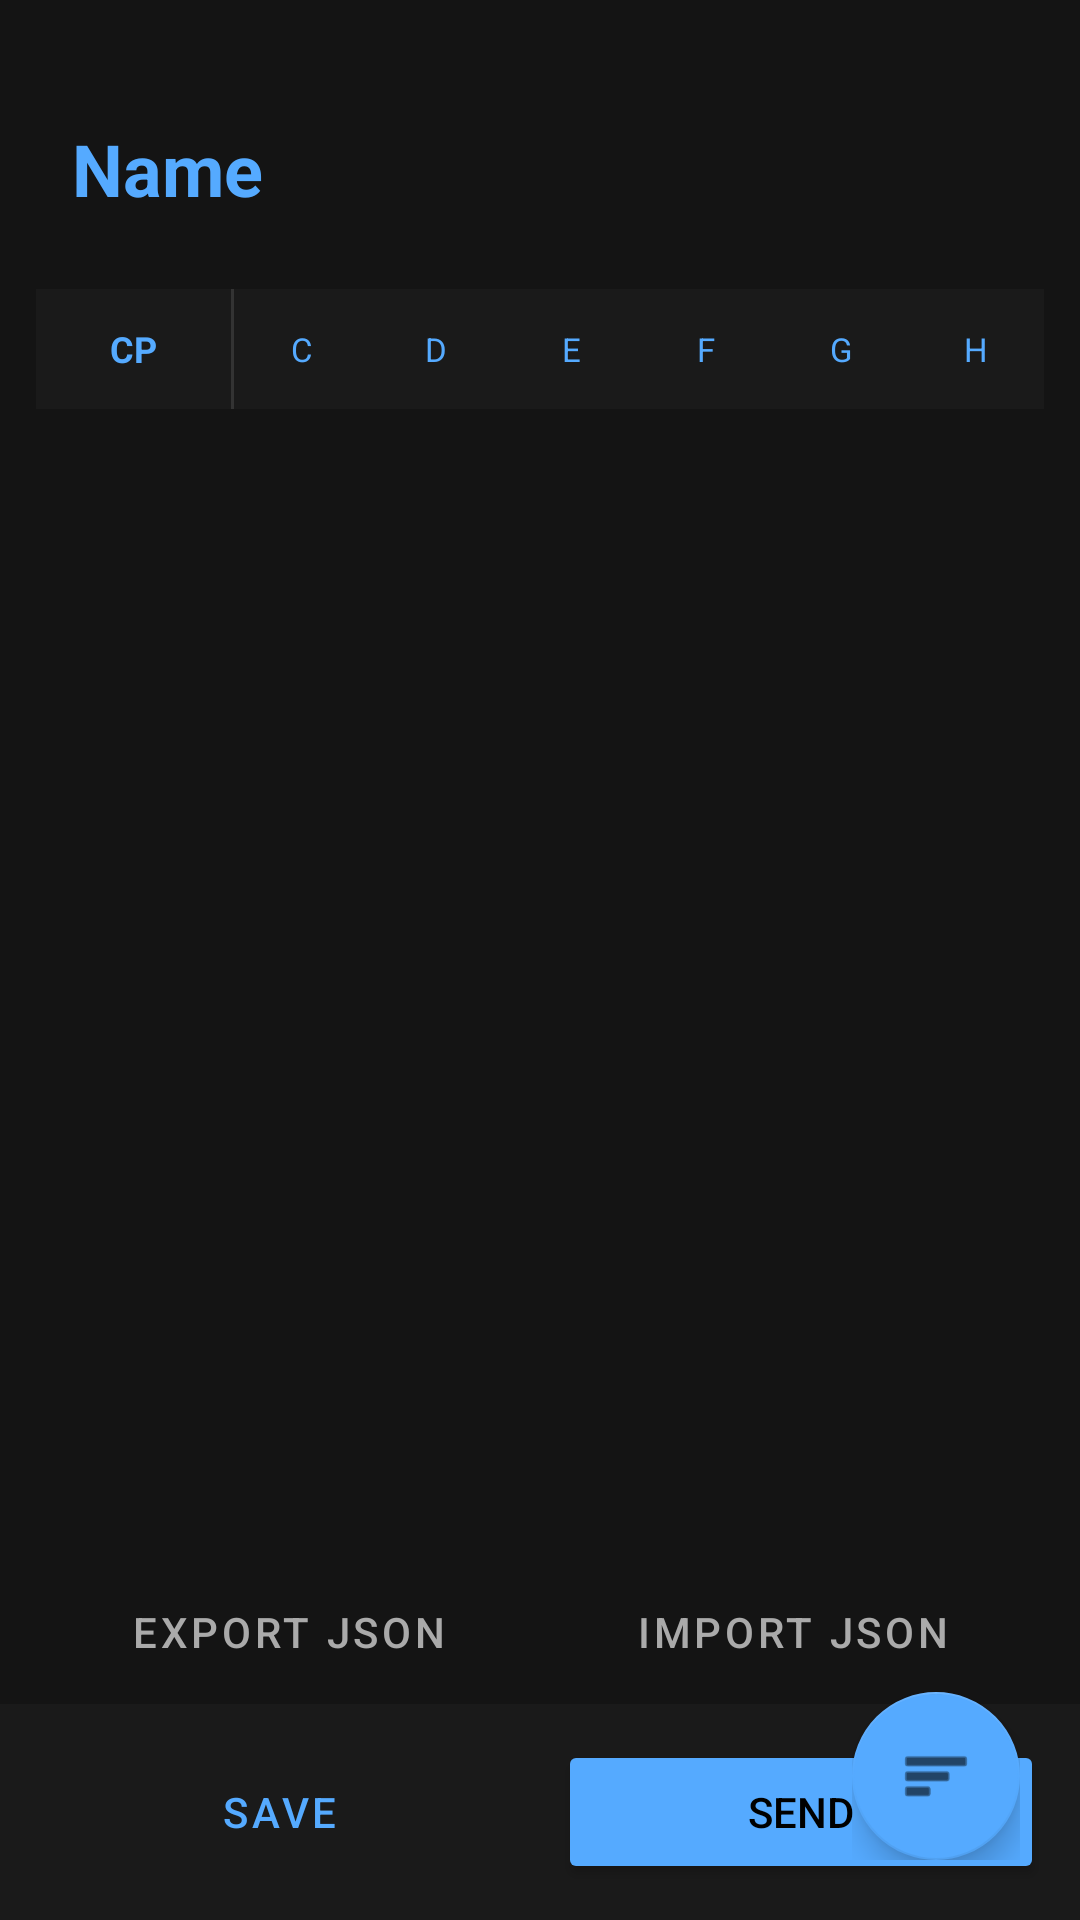

Point at icon controls on the screen. Image size 1080px x 1920px, points as (x,y).
sort by size: (936,1776)
